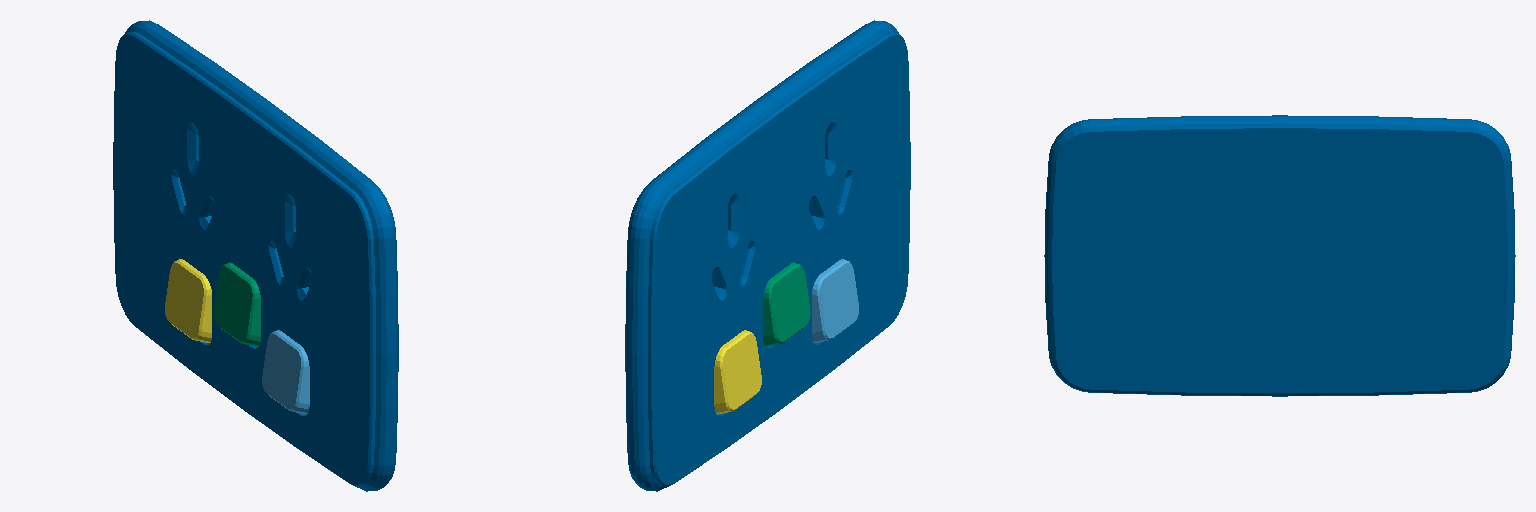
URDF robot description (partnet_0babf424-c85b-4d21-8123-72f3aed070c9):
<?xml version="1.0" ?>
<robot name="partnet_0babf424-c85b-4d21-8123-72f3aed070c9">
	<link name="base"/>
	<link name="link_0">
		<visual name="switch-1">
			<origin xyz="-0.45498383794909003 0.2850748272945912 -0.06158125813383397"/>
			<geometry>
				<mesh filename="textured_objs/original-18.obj"/>
			</geometry>
		</visual>
		<visual name="switch-1">
			<origin xyz="-0.45498383794909003 0.2850748272945912 -0.06158125813383397"/>
			<geometry>
				<mesh filename="textured_objs/original-19.obj"/>
			</geometry>
		</visual>
		<collision>
			<origin xyz="-0.45498383794909003 0.2850748272945912 -0.06158125813383397"/>
			<geometry>
				<mesh filename="textured_objs/original-18.obj"/>
			</geometry>
		</collision>
		<collision>
			<origin xyz="-0.45498383794909003 0.2850748272945912 -0.06158125813383397"/>
			<geometry>
				<mesh filename="textured_objs/original-19.obj"/>
			</geometry>
		</collision>
	</link>
	<joint name="joint_0" type="revolute">
		<origin xyz="0.45498383794909003 -0.2850748272945912 0.06158125813383397"/>
		<axis xyz="1 0 0"/>
		<child link="link_0"/>
		<parent link="link_3"/>
		<limit lower="0.0" upper="0.3392920065876977"/>
	</joint>
	<link name="link_1">
		<visual name="switch-2">
			<origin xyz="-0.45498383794909003 0.16524480782056183 -0.061048941288923575"/>
			<geometry>
				<mesh filename="textured_objs/original-22.obj"/>
			</geometry>
		</visual>
		<visual name="switch-2">
			<origin xyz="-0.45498383794909003 0.16524480782056183 -0.061048941288923575"/>
			<geometry>
				<mesh filename="textured_objs/original-23.obj"/>
			</geometry>
		</visual>
		<collision>
			<origin xyz="-0.45498383794909003 0.16524480782056183 -0.061048941288923575"/>
			<geometry>
				<mesh filename="textured_objs/original-22.obj"/>
			</geometry>
		</collision>
		<collision>
			<origin xyz="-0.45498383794909003 0.16524480782056183 -0.061048941288923575"/>
			<geometry>
				<mesh filename="textured_objs/original-23.obj"/>
			</geometry>
		</collision>
	</link>
	<joint name="joint_1" type="revolute">
		<origin xyz="0.45498383794909003 -0.16524480782056183 0.061048941288923575"/>
		<axis xyz="1 0 0"/>
		<child link="link_1"/>
		<parent link="link_3"/>
		<limit lower="0.0" upper="0.3392920065876977"/>
	</joint>
	<link name="link_2">
		<visual name="switch-3">
			<origin xyz="-0.45498383794909003 0.28008190981650666 -0.06155907826529604"/>
			<geometry>
				<mesh filename="textured_objs/original-15.obj"/>
			</geometry>
		</visual>
		<visual name="switch-3">
			<origin xyz="-0.45498383794909003 0.28008190981650666 -0.06155907826529604"/>
			<geometry>
				<mesh filename="textured_objs/original-14.obj"/>
			</geometry>
		</visual>
		<collision>
			<origin xyz="-0.45498383794909003 0.28008190981650666 -0.06155907826529604"/>
			<geometry>
				<mesh filename="textured_objs/original-15.obj"/>
			</geometry>
		</collision>
		<collision>
			<origin xyz="-0.45498383794909003 0.28008190981650666 -0.06155907826529604"/>
			<geometry>
				<mesh filename="textured_objs/original-14.obj"/>
			</geometry>
		</collision>
	</link>
	<joint name="joint_2" type="revolute">
		<origin xyz="0.45498383794909003 -0.28008190981650666 0.06155907826529604"/>
		<axis xyz="1 0 0"/>
		<child link="link_2"/>
		<parent link="link_3"/>
		<limit lower="0.0" upper="0.3392920065876977"/>
	</joint>
	<link name="link_3">
		<visual name="base_body-4">
			<origin xyz="0 0 0"/>
			<geometry>
				<mesh filename="textured_objs/original-4.obj"/>
			</geometry>
		</visual>
		<visual name="base_body-4">
			<origin xyz="0 0 0"/>
			<geometry>
				<mesh filename="textured_objs/original-3.obj"/>
			</geometry>
		</visual>
		<visual name="base_body-4">
			<origin xyz="0 0 0"/>
			<geometry>
				<mesh filename="textured_objs/original-2.obj"/>
			</geometry>
		</visual>
		<visual name="base_body-4">
			<origin xyz="0 0 0"/>
			<geometry>
				<mesh filename="textured_objs/original-16.obj"/>
			</geometry>
		</visual>
		<visual name="base_body-4">
			<origin xyz="0 0 0"/>
			<geometry>
				<mesh filename="textured_objs/original-8.obj"/>
			</geometry>
		</visual>
		<visual name="base_body-4">
			<origin xyz="0 0 0"/>
			<geometry>
				<mesh filename="textured_objs/original-9.obj"/>
			</geometry>
		</visual>
		<visual name="base_body-4">
			<origin xyz="0 0 0"/>
			<geometry>
				<mesh filename="textured_objs/original-5.obj"/>
			</geometry>
		</visual>
		<visual name="base_body-4">
			<origin xyz="0 0 0"/>
			<geometry>
				<mesh filename="textured_objs/original-6.obj"/>
			</geometry>
		</visual>
		<visual name="base_body-4">
			<origin xyz="0 0 0"/>
			<geometry>
				<mesh filename="textured_objs/original-11.obj"/>
			</geometry>
		</visual>
		<visual name="base_body-4">
			<origin xyz="0 0 0"/>
			<geometry>
				<mesh filename="textured_objs/original-12.obj"/>
			</geometry>
		</visual>
		<visual name="base_body-4">
			<origin xyz="0 0 0"/>
			<geometry>
				<mesh filename="textured_objs/original-24.obj"/>
			</geometry>
		</visual>
		<visual name="base_body-4">
			<origin xyz="0 0 0"/>
			<geometry>
				<mesh filename="textured_objs/original-20.obj"/>
			</geometry>
		</visual>
		<visual name="base_body-4">
			<origin xyz="0 0 0"/>
			<geometry>
				<mesh filename="textured_objs/original-7.obj"/>
			</geometry>
		</visual>
		<visual name="base_body-4">
			<origin xyz="0 0 0"/>
			<geometry>
				<mesh filename="textured_objs/original-1.obj"/>
			</geometry>
		</visual>
		<visual name="base_body-4">
			<origin xyz="0 0 0"/>
			<geometry>
				<mesh filename="textured_objs/original-10.obj"/>
			</geometry>
		</visual>
		<collision>
			<origin xyz="0 0 0"/>
			<geometry>
				<mesh filename="textured_objs/original-4.obj"/>
			</geometry>
		</collision>
		<collision>
			<origin xyz="0 0 0"/>
			<geometry>
				<mesh filename="textured_objs/original-3.obj"/>
			</geometry>
		</collision>
		<collision>
			<origin xyz="0 0 0"/>
			<geometry>
				<mesh filename="textured_objs/original-2.obj"/>
			</geometry>
		</collision>
		<collision>
			<origin xyz="0 0 0"/>
			<geometry>
				<mesh filename="textured_objs/original-16.obj"/>
			</geometry>
		</collision>
		<collision>
			<origin xyz="0 0 0"/>
			<geometry>
				<mesh filename="textured_objs/original-8.obj"/>
			</geometry>
		</collision>
		<collision>
			<origin xyz="0 0 0"/>
			<geometry>
				<mesh filename="textured_objs/original-9.obj"/>
			</geometry>
		</collision>
		<collision>
			<origin xyz="0 0 0"/>
			<geometry>
				<mesh filename="textured_objs/original-5.obj"/>
			</geometry>
		</collision>
		<collision>
			<origin xyz="0 0 0"/>
			<geometry>
				<mesh filename="textured_objs/original-6.obj"/>
			</geometry>
		</collision>
		<collision>
			<origin xyz="0 0 0"/>
			<geometry>
				<mesh filename="textured_objs/original-11.obj"/>
			</geometry>
		</collision>
		<collision>
			<origin xyz="0 0 0"/>
			<geometry>
				<mesh filename="textured_objs/original-12.obj"/>
			</geometry>
		</collision>
		<collision>
			<origin xyz="0 0 0"/>
			<geometry>
				<mesh filename="textured_objs/original-24.obj"/>
			</geometry>
		</collision>
		<collision>
			<origin xyz="0 0 0"/>
			<geometry>
				<mesh filename="textured_objs/original-20.obj"/>
			</geometry>
		</collision>
		<collision>
			<origin xyz="0 0 0"/>
			<geometry>
				<mesh filename="textured_objs/original-7.obj"/>
			</geometry>
		</collision>
		<collision>
			<origin xyz="0 0 0"/>
			<geometry>
				<mesh filename="textured_objs/original-1.obj"/>
			</geometry>
		</collision>
		<collision>
			<origin xyz="0 0 0"/>
			<geometry>
				<mesh filename="textured_objs/original-10.obj"/>
			</geometry>
		</collision>
	</link>
	<joint name="joint_3" type="fixed">
		<origin rpy="1.570796326794897 0 -1.570796326794897" xyz="0 0 0"/>
		<child link="link_3"/>
		<parent link="base"/>
	</joint>
</robot>

--- What the picture shows (computed from the rendered views, not written in the file) ---
3 views of the same robot in one strip: view 1: azimuth 30°, elevation 25°; view 2: azimuth 150°, elevation 25°; view 3: azimuth 270°, elevation 25° (orthographic).
Model partnet_0babf424-c85b-4d21-8123-72f3aed070c9 with 5 links and 4 joints (3 revolute, 1 fixed), rooted at base, posed every joint at zero.
Links seen in each view (by area): view 1: link_3, link_0, link_1, link_2; view 2: link_3, link_2, link_1, link_0; view 3: link_3.
Boxes of the visible links, bbox=[...] form: link_3: bbox=[113, 20, 398, 491]; link_0: bbox=[262, 330, 309, 414]; link_1: bbox=[213, 262, 260, 346]; link_2: bbox=[165, 259, 211, 342]; link_3: bbox=[625, 20, 910, 491]; link_2: bbox=[714, 330, 761, 414]; link_1: bbox=[763, 262, 810, 346]; link_0: bbox=[812, 259, 858, 342]; link_3: bbox=[1044, 115, 1515, 396].
Size in the robot's own frame: 0.1593 by 1.83 by 1.19 metres.
21 mesh visuals loaded from 21 distinct referenced files (21 OBJ).